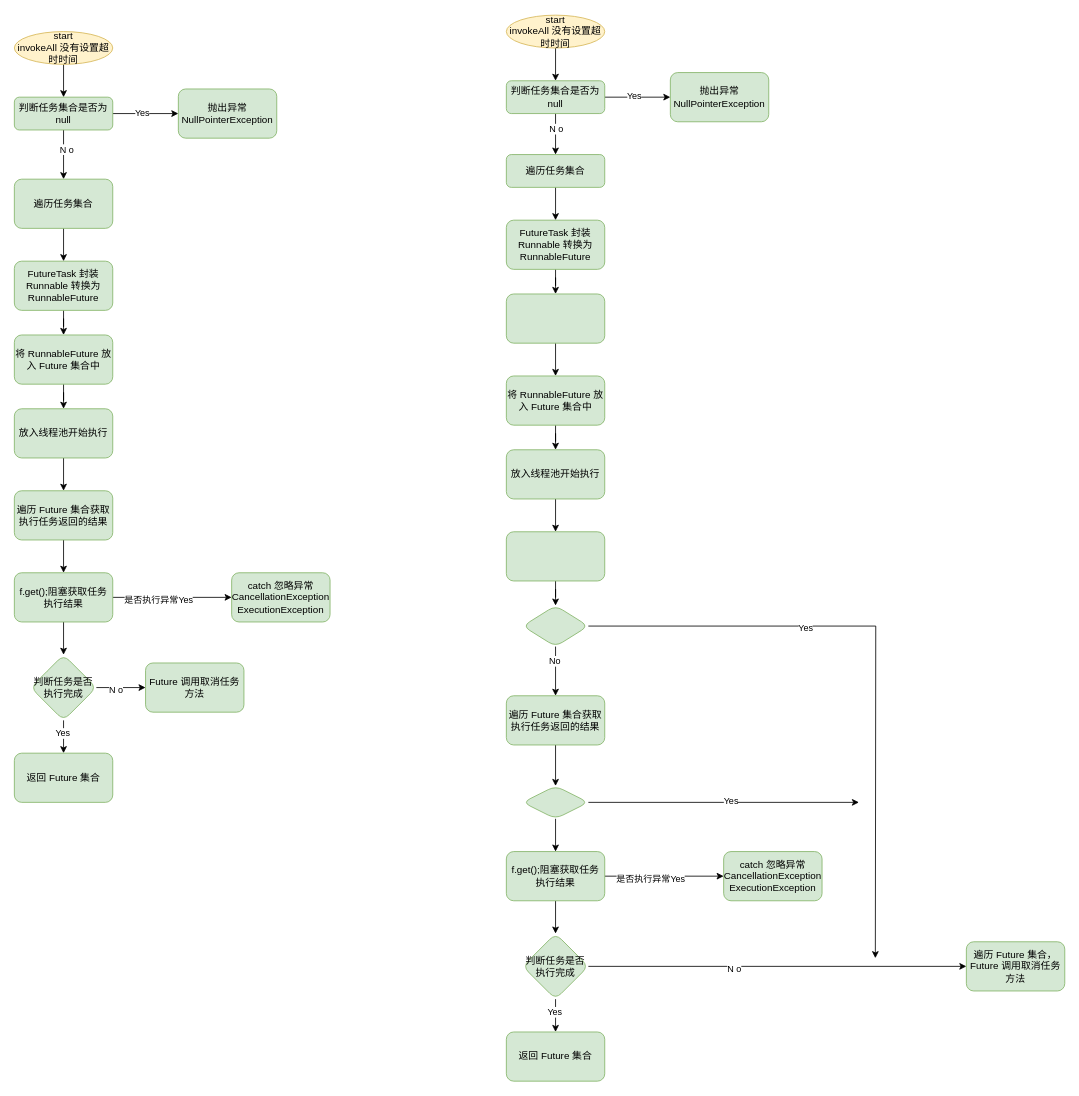
This 1079x1096 diagram has some shape labels left out. The centre of each missing label's shape, as x and y in pixels:
判断是否超时: [555,626]
判断最后时间是否 <= 0: [555,802]
计算结束时间: [555,556]
遍历封装的封装集合: [555,318]
